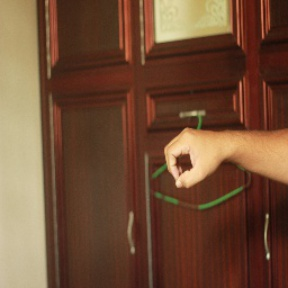O: (154, 119, 244, 197)
